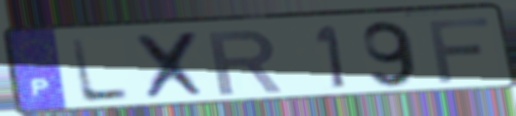1: (312, 23, 350, 91)
9: (359, 19, 421, 90)
F: (425, 15, 494, 85)
L: (67, 37, 133, 104)
R: (204, 28, 287, 98)
X: (133, 29, 212, 103)
